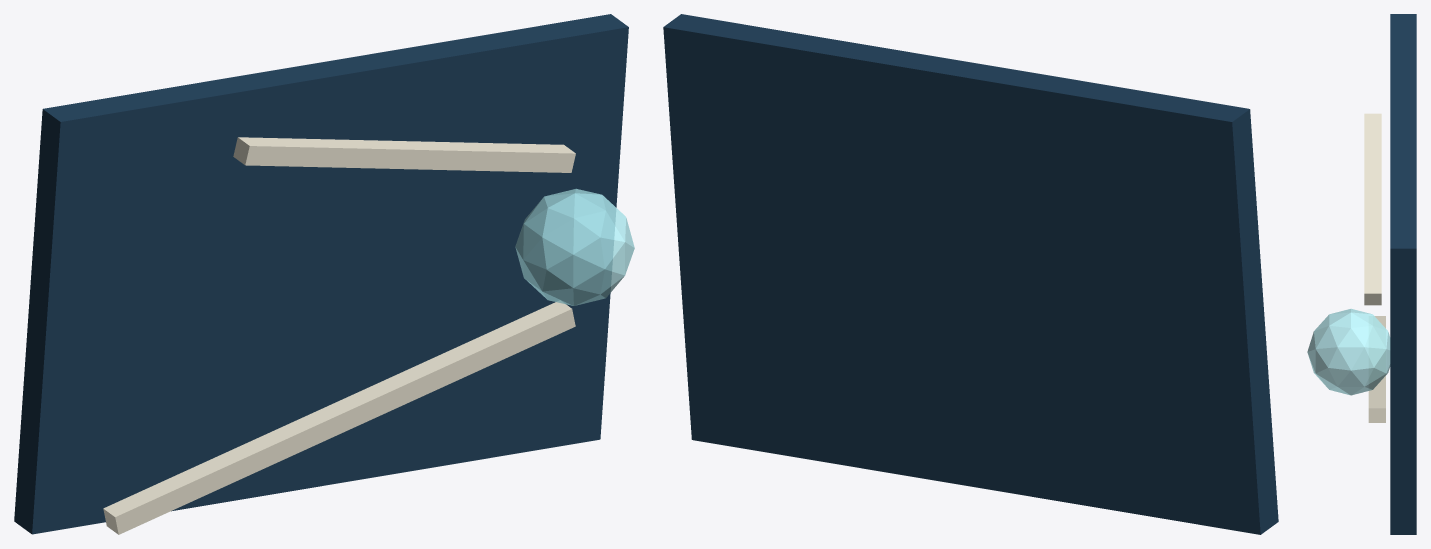
File: 02_world_prop_polish.glb
3 views of the same model, side by side, from view 1: azimuth 30°, elevation 25°; view 2: azimuth 150°, elevation 25°; view 3: azimuth 270°, elevation 25° (orthographic). The views are drawn at different scales.
Parts seen in each view (by area): view 1: object_overlay_plate, edge_wear_a, glow_socket, edge_wear_b; view 2: object_overlay_plate; view 3: object_overlay_plate, glow_socket, edge_wear_b, edge_wear_a.
Boxes of the visible parts, x1,y1,x2,y2 form: object_overlay_plate: (14,14,628,534); edge_wear_a: (103,301,575,534); glow_socket: (515,188,634,305); edge_wear_b: (233,137,575,172); object_overlay_plate: (663,14,1278,534); object_overlay_plate: (1390,14,1416,534); glow_socket: (1307,308,1390,395); edge_wear_b: (1364,113,1381,305); edge_wear_a: (1368,316,1385,422).
Bounding box in the file's own units: 1.15 × 0.8287 × 0.25.
